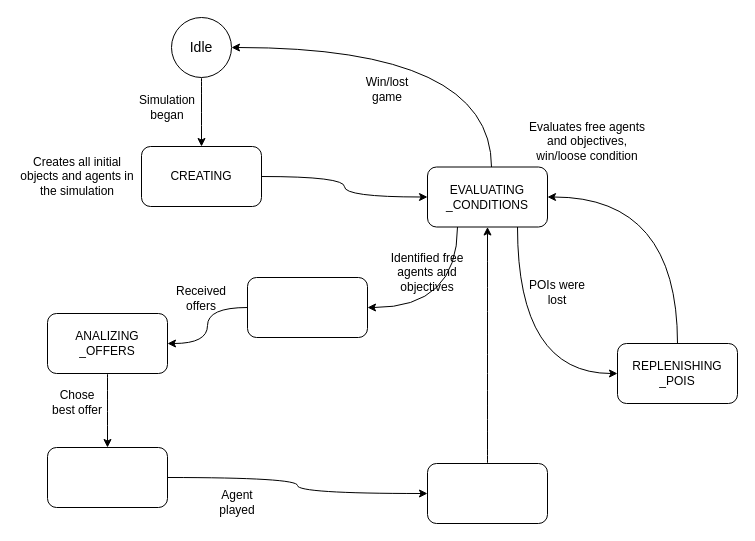
Image size: 755x541. Some labels were removed from this diagram. The box of each missing label's shape, as (x1, y1, x2, y2) in pixels:
ADVANCING_FIRE: (426, 462, 548, 524)
ASSIGNING _OBJETIVES: (46, 446, 168, 508)
AUCTIONING _OBJECTIVES: (246, 276, 368, 338)
